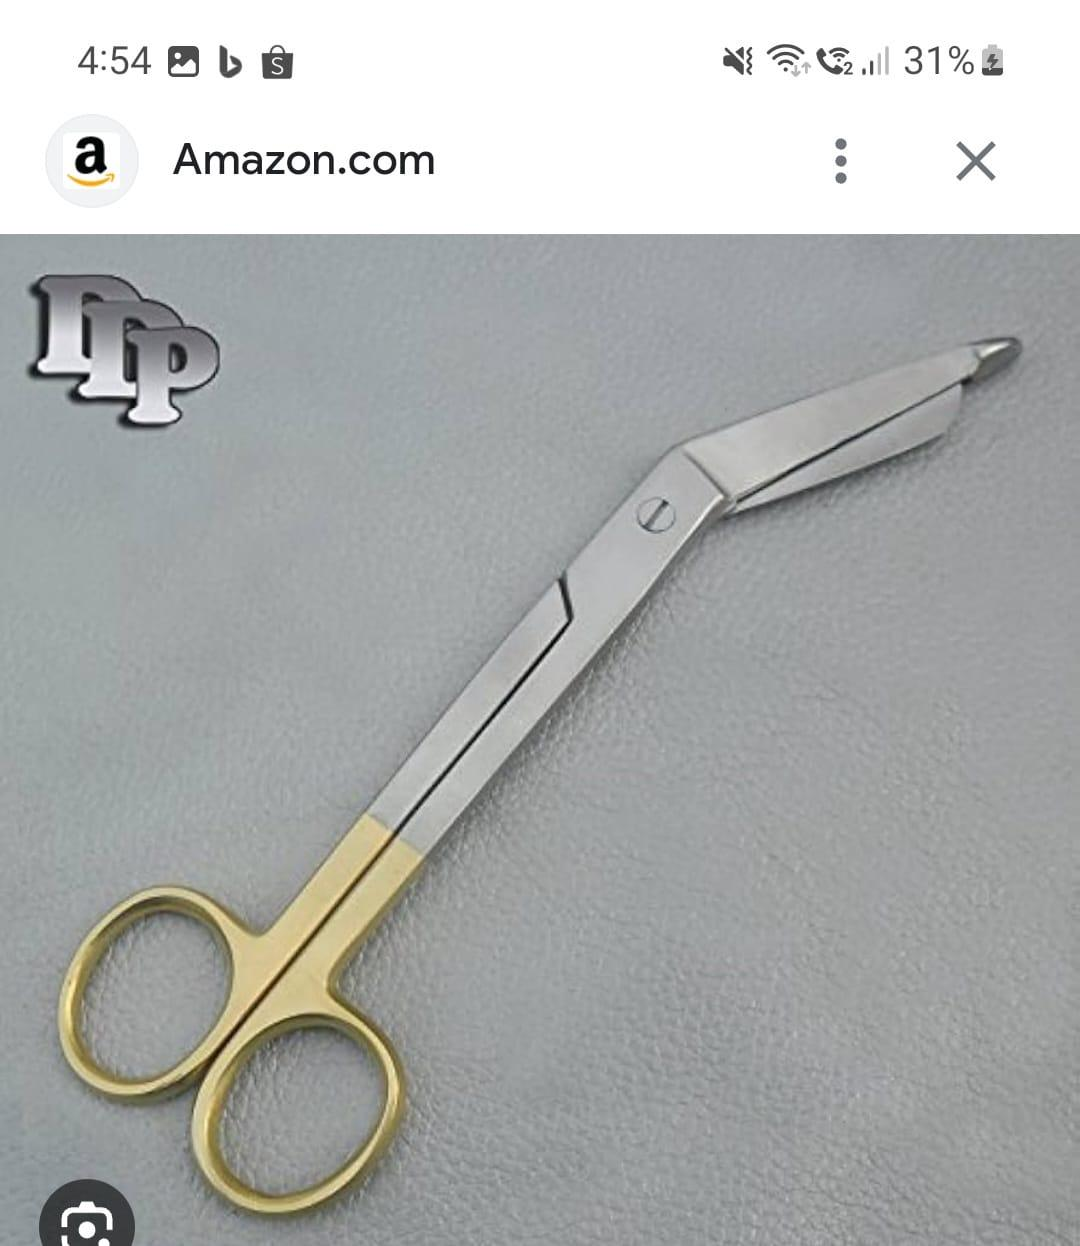Bandage Sciccors: (45, 326, 1024, 1224)
